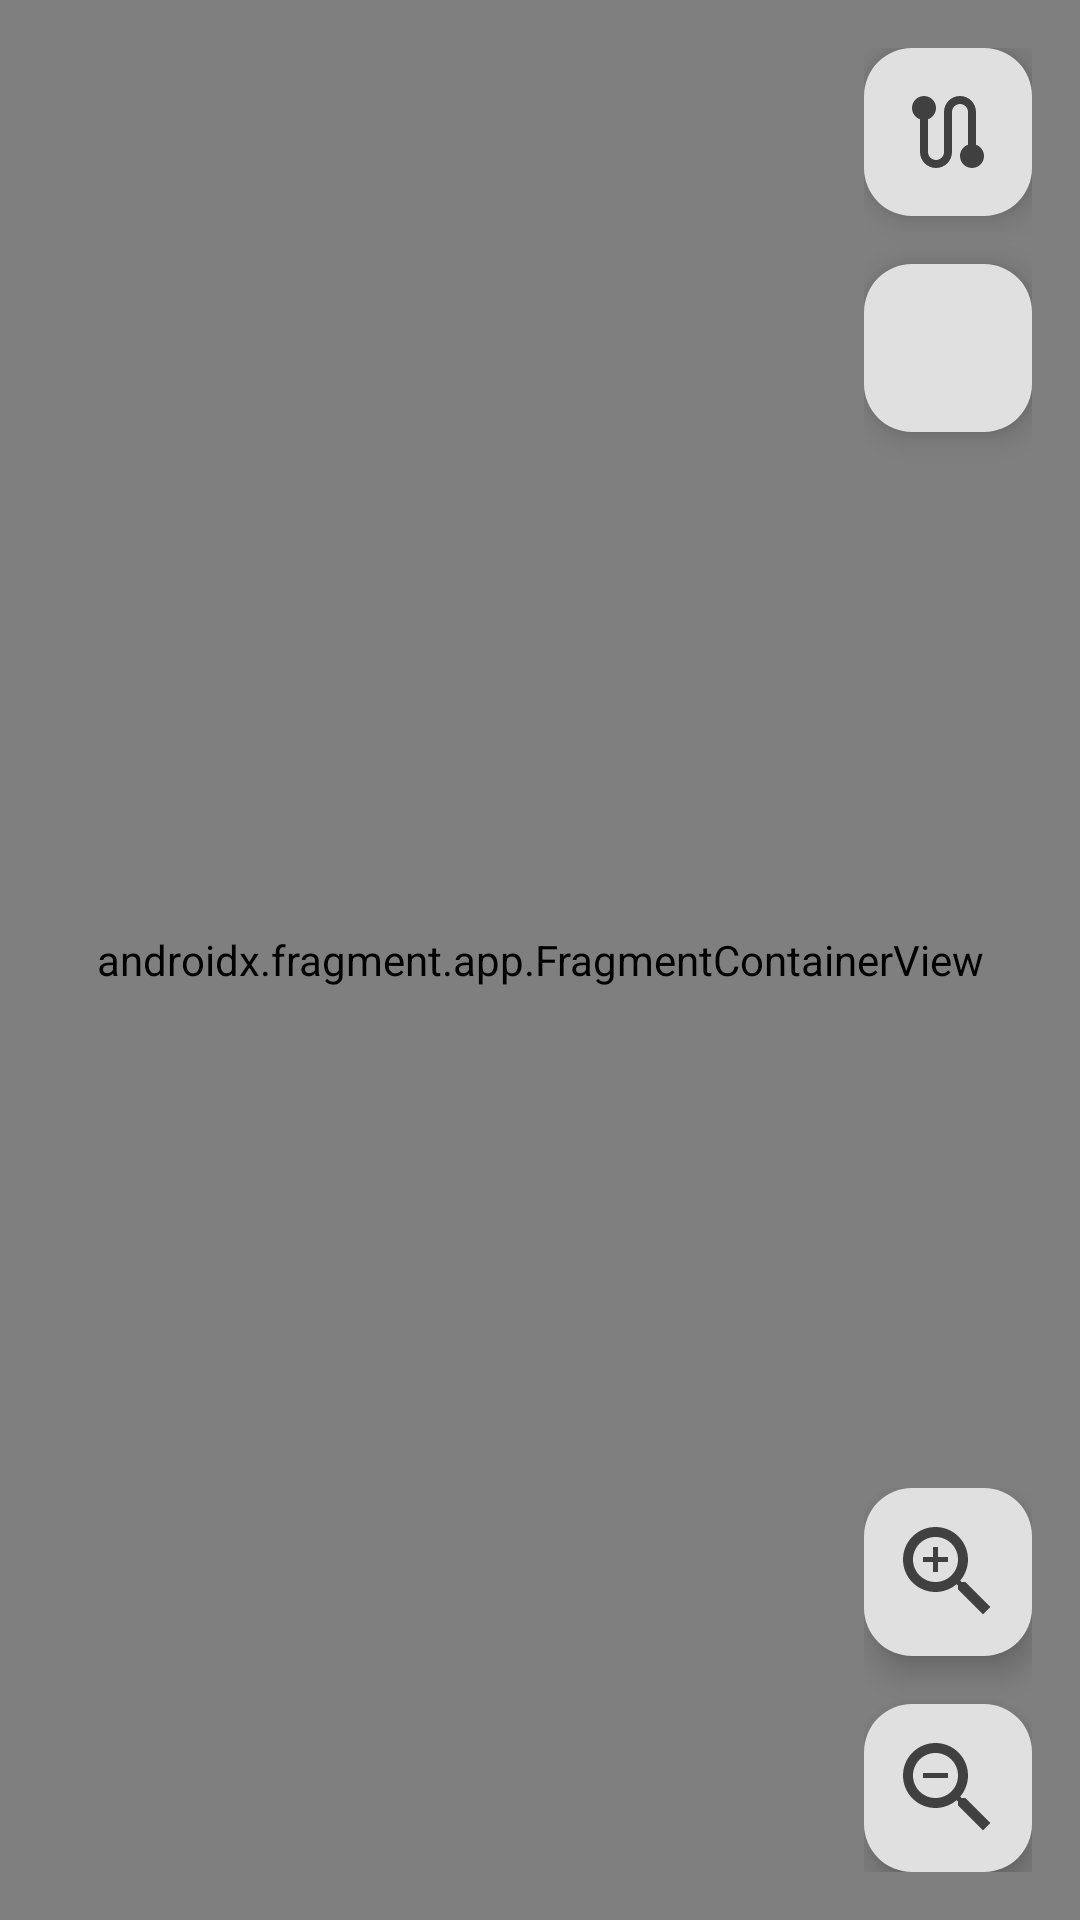

Icon bounding boxes for this 1080px×1920px phone screenshot, format (x1, y1, x2, y2):
Focar no trajeto: (864, 48, 1032, 216)
Zoom In: (864, 1488, 1032, 1656)
Zoom Out: (864, 1704, 1032, 1872)
